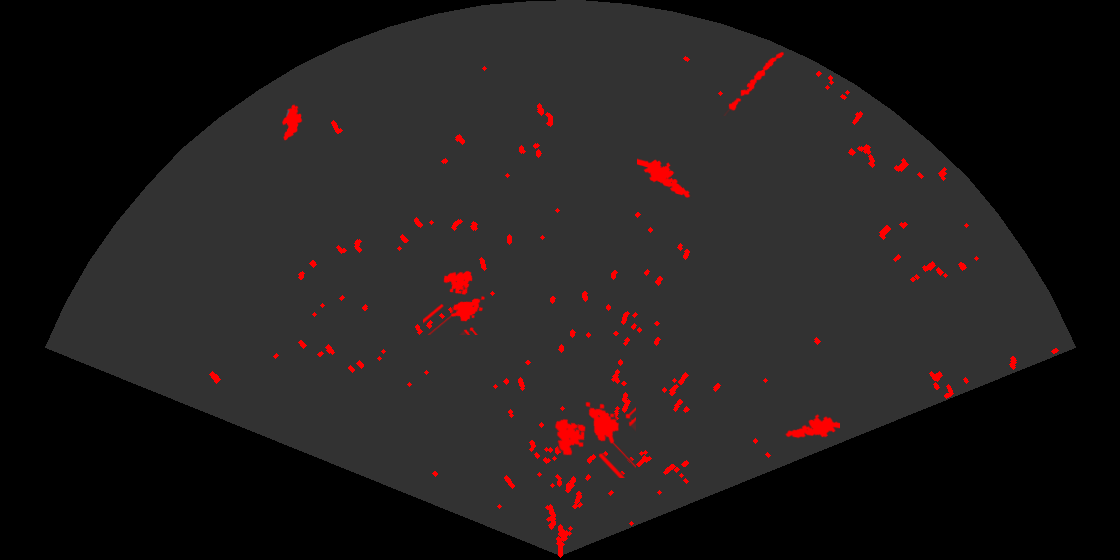AUV: (280, 102, 304, 142)
cage: (553, 400, 636, 478), (423, 269, 487, 335)
chain: (722, 50, 786, 116)
frogman: (637, 157, 692, 199), (784, 412, 840, 440)
